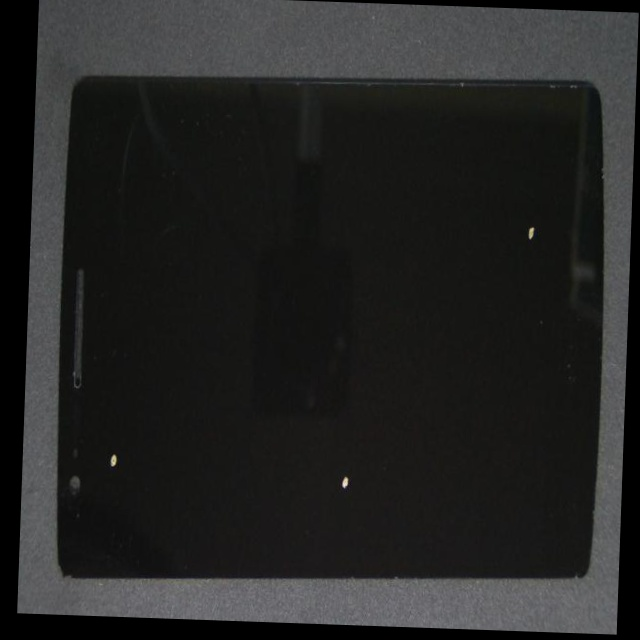stain: (146, 227, 500, 630), (233, 164, 633, 397), (33, 223, 153, 618)
